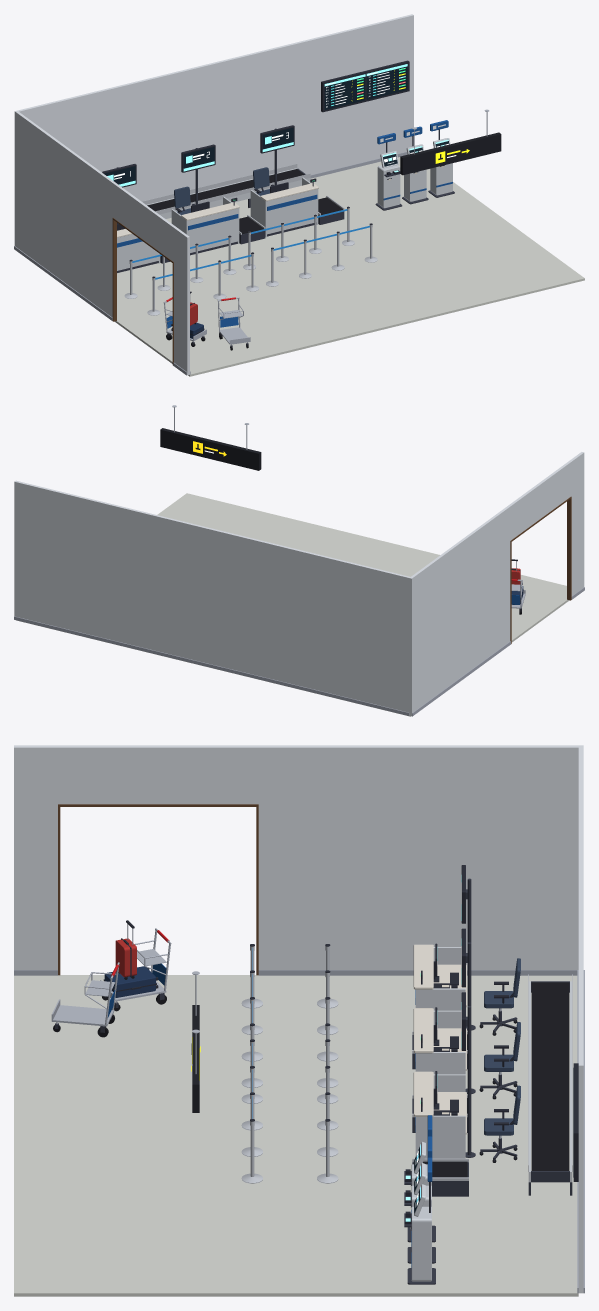
Rendered from air-021.glb.
The picture shows the model from 3 angles, top to bottom: view 1: azimuth 30°, elevation 25°; view 2: azimuth 150°, elevation 25°; view 3: azimuth 270°, elevation 25°; orthographic projection. The views are drawn at different scales.
Parts seen in each view (by area): view 1: wall, terminal_floor, counter_panel, stainless, monitor_screen, plastic_dark, sign_panel, dark_steel, conveyor_belt, airline_blue, steel, laminate (+6 smaller); view 2: wall, terminal_floor, skirting, sign_panel, walnut; view 3: terminal_floor, wall, counter_panel, conveyor_belt, stainless, dark_steel, laminate, plastic_dark, steel, skirting, chair_fabric, walnut (+4 smaller).
Part boxes in pixels (x1,y1,x2,y2): wall: (14, 14, 413, 375); terminal_floor: (114, 157, 584, 376); counter_panel: (117, 138, 452, 270); stainless: (124, 164, 377, 315); monitor_screen: (104, 66, 449, 184); plastic_dark: (102, 60, 444, 335); sign_panel: (400, 132, 501, 175); dark_steel: (116, 128, 454, 348); conveyor_belt: (147, 169, 342, 234); airline_blue: (117, 120, 452, 328); steel: (163, 109, 489, 345); laminate: (117, 183, 318, 237); wall: (14, 452, 584, 716); terminal_floor: (16, 493, 569, 716); skirting: (14, 587, 584, 716); sign_panel: (160, 428, 261, 470); walnut: (510, 496, 571, 643); terminal_floor: (14, 975, 578, 1296); wall: (14, 745, 583, 1293); counter_panel: (411, 947, 572, 1281); conveyor_belt: (413, 982, 569, 1177); stainless: (241, 946, 572, 1183); dark_steel: (55, 878, 572, 1284); laminate: (413, 944, 466, 1134); plastic_dark: (103, 865, 578, 1228); steel: (51, 924, 501, 1138); skirting: (14, 970, 584, 1293); chair_fabric: (484, 958, 520, 1135); walnut: (58, 804, 258, 975).
Size of the model in its own units: 12.1 by 4.06 by 9.1.
